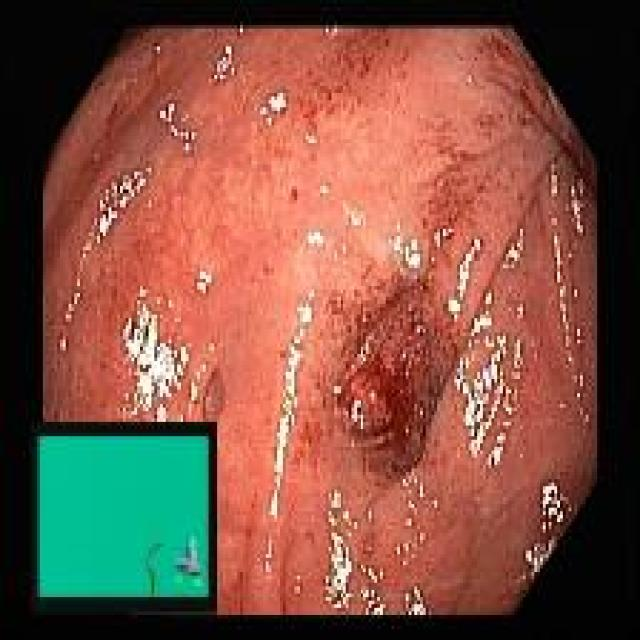ulcerative-colitis: (44, 27, 596, 616)
